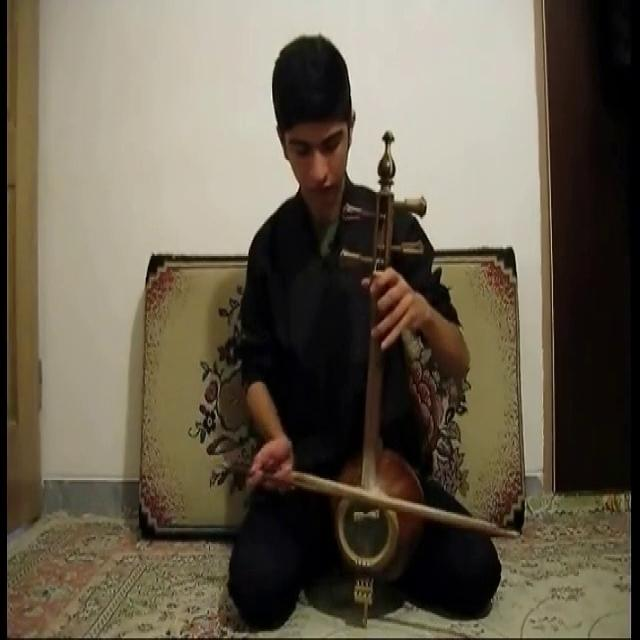Kamanche: (328, 107, 437, 604)
